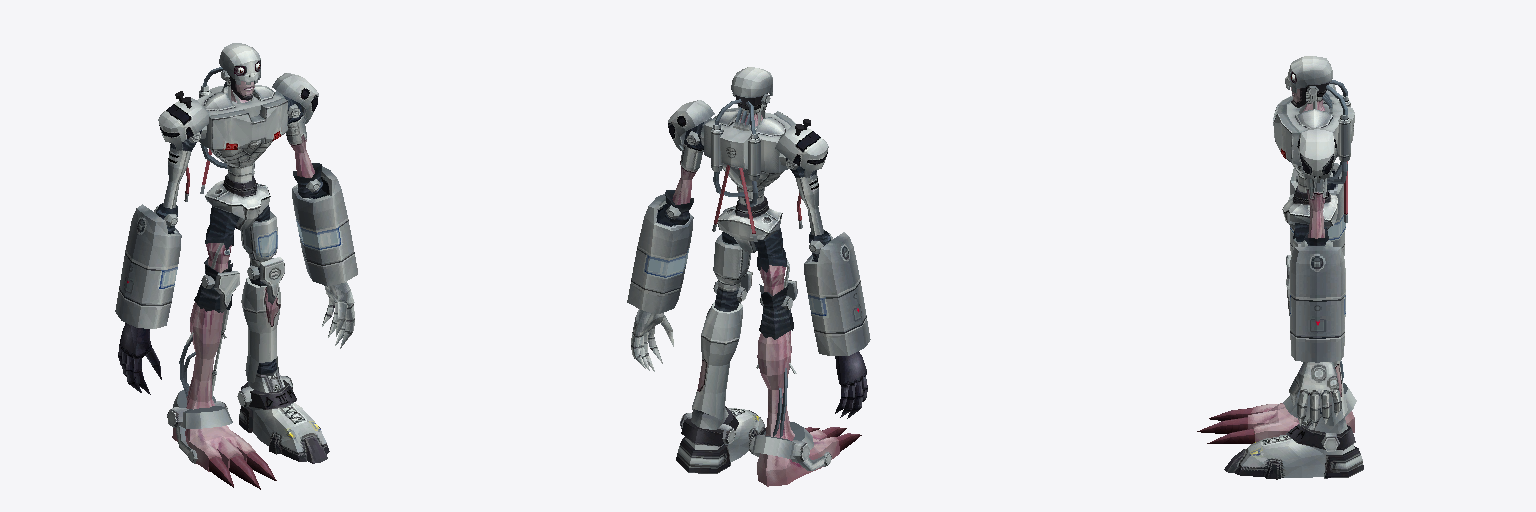
The picture shows the model from 3 angles: view 1: azimuth 30°, elevation 25°; view 2: azimuth 150°, elevation 25°; view 3: azimuth 270°, elevation 25°; orthographic projection.
Bounding box in the file's own units: 1.88 × 3.06 × 1.19.
1 materials, 1 textured.